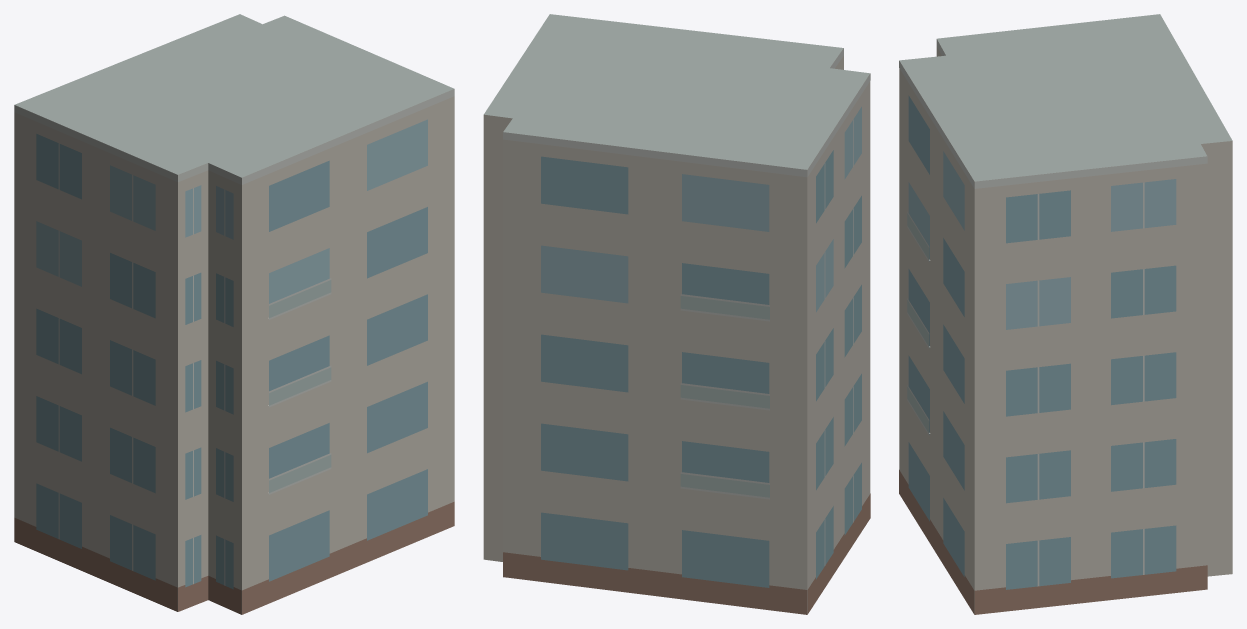
The model's file is survey-upis-32721446.glb.
3 views of the same model, side by side, from view 1: azimuth 30°, elevation 25°; view 2: azimuth 150°, elevation 25°; view 3: azimuth 270°, elevation 25° (orthographic). The views are drawn at different scales.
Visible parts, largest first — view 1: survey-upis-32721446.tmp; view 2: survey-upis-32721446.tmp; view 3: survey-upis-32721446.tmp.
Boxes of the visible parts, box(x1,y1,x2,y2) form: survey-upis-32721446.tmp: box(14, 14, 454, 614); survey-upis-32721446.tmp: box(483, 14, 870, 614); survey-upis-32721446.tmp: box(899, 14, 1232, 614).
Bounding box in the file's own units: 12.04 × 14.5 × 10.13.
